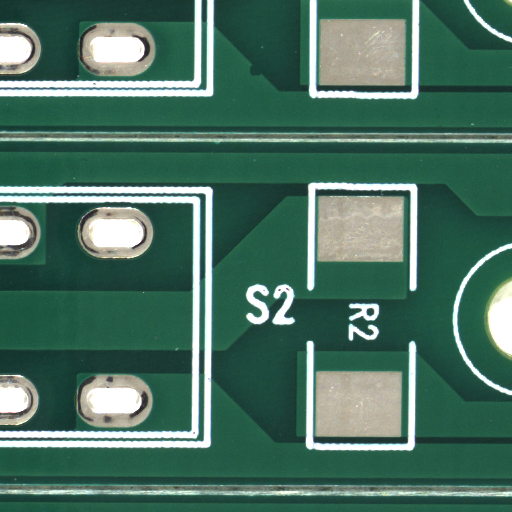Mouse_bite: (255, 70, 268, 81)
